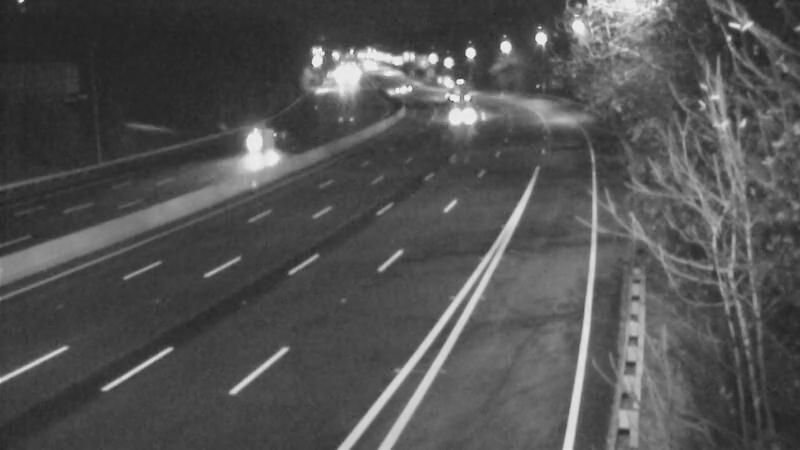vehicle: (386, 65, 436, 115), (370, 67, 420, 117), (430, 65, 480, 115), (431, 93, 481, 143), (230, 121, 280, 171)
